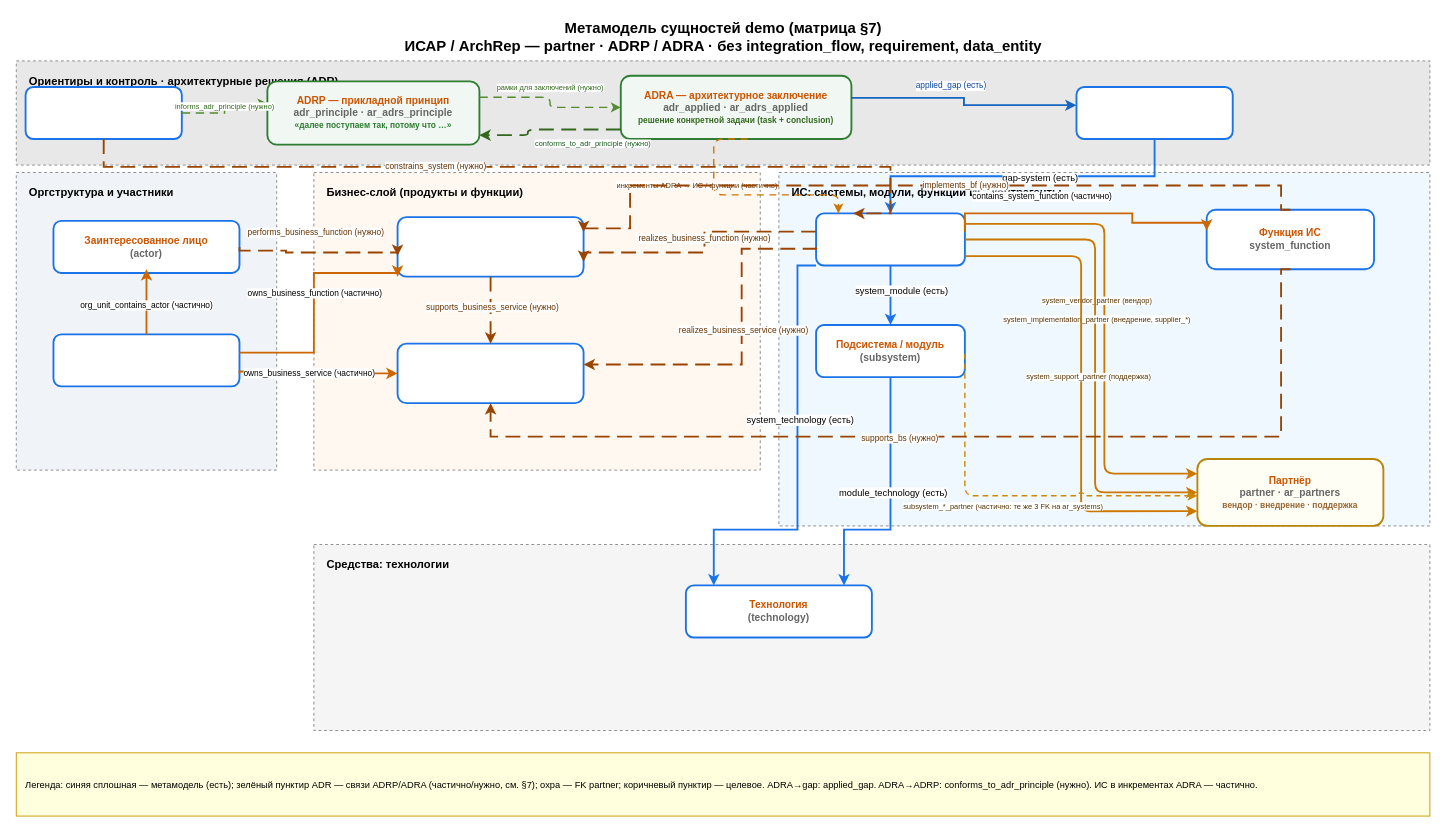
This 1446x832 diagram has some shape labels left out. The centre of each missing label's shape, as x and y in pixels:
Бизнес-сервис (продукт) business_service: point (490, 373)
Бизнес-функция business_function: point (490, 246)
Орг. единица organization_unit: point (146, 360)
Принцип (каталог) principle · ar_principles: point (103, 113)
Разрыв (gap) (gap): point (1154, 113)
Система (system): point (890, 239)
